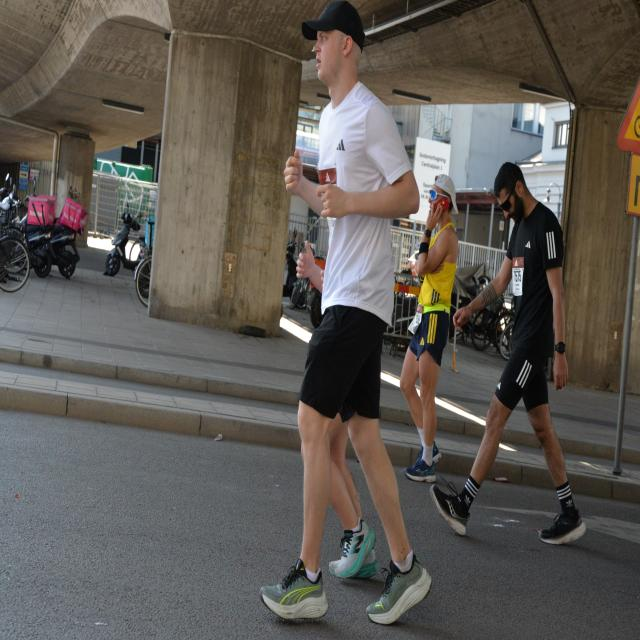runner-detect: (267, 5, 437, 633), (464, 148, 596, 574), (403, 139, 460, 485)
